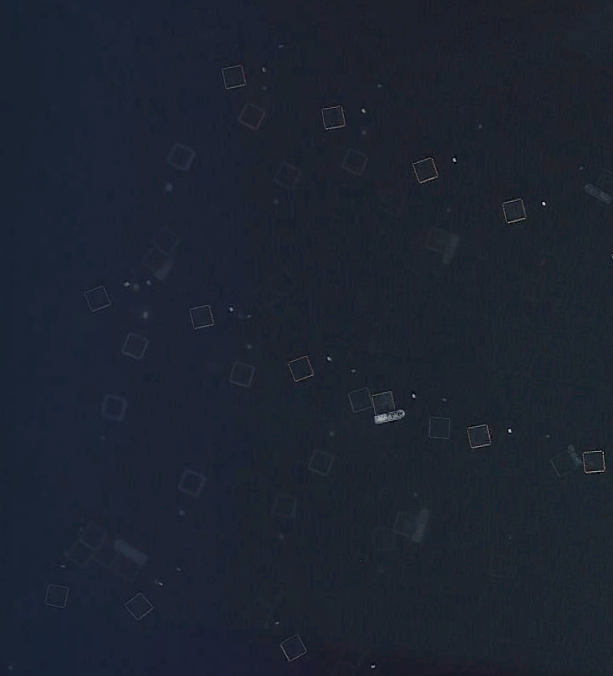ship: (371, 406, 407, 427)
square: (489, 182, 539, 237), (401, 146, 448, 187), (120, 583, 160, 626), (171, 465, 212, 502), (306, 443, 341, 483), (273, 630, 310, 667), (97, 390, 132, 428), (212, 57, 251, 91), (162, 141, 203, 173), (113, 324, 150, 359), (579, 443, 613, 481), (39, 577, 75, 612), (270, 152, 304, 188), (73, 516, 107, 552), (316, 101, 353, 134), (264, 492, 301, 523), (459, 416, 493, 449), (366, 384, 398, 419), (228, 360, 262, 392), (339, 143, 371, 177), (237, 99, 270, 131), (184, 302, 215, 333), (344, 382, 372, 416), (421, 223, 452, 253), (287, 354, 316, 385), (423, 412, 452, 442), (79, 282, 108, 312)
